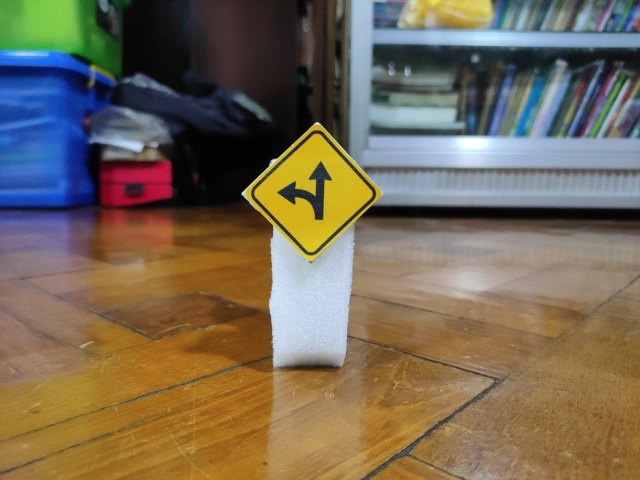Straight Or Left Sign: (247, 128, 382, 258)
